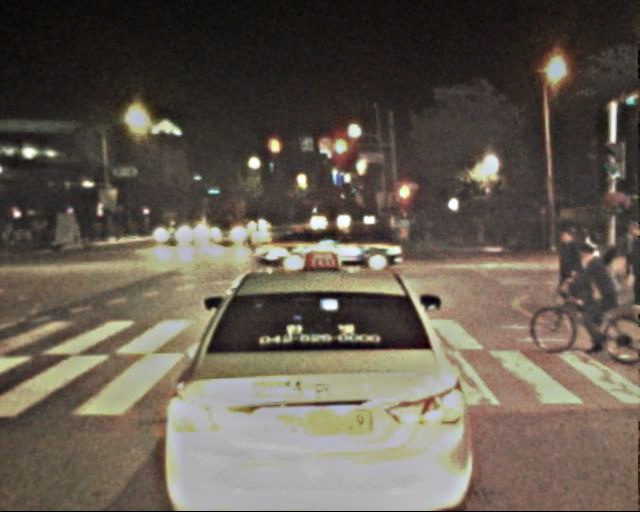person: (572, 242, 616, 350), (551, 229, 586, 314), (620, 223, 640, 300), (3, 217, 25, 249), (412, 219, 436, 246)
